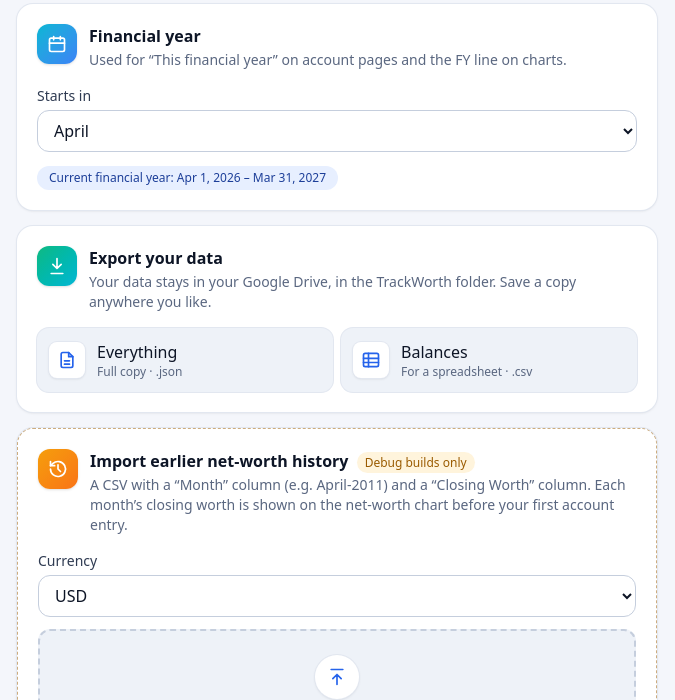
Test: Export › shows the error when saving fails
(page scrolled)
Click the button with aria-label "Everything (JSON)" at [185, 360], box [37,328,333,392]
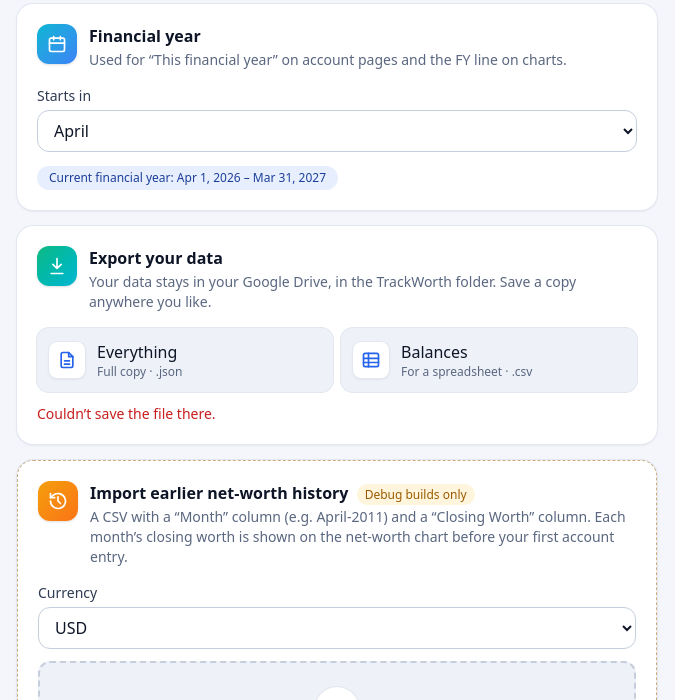
Expected: the message reads "Couldn’t save the file there.", [37,404,216,423]
